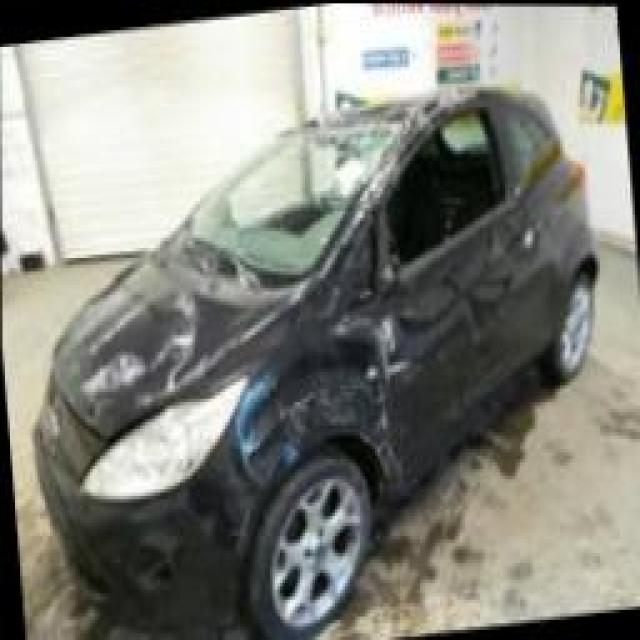Bonnet: (46, 250, 301, 458)
Door: (376, 195, 533, 486)
Fender: (190, 211, 420, 569)
Windshield: (170, 131, 405, 282)
